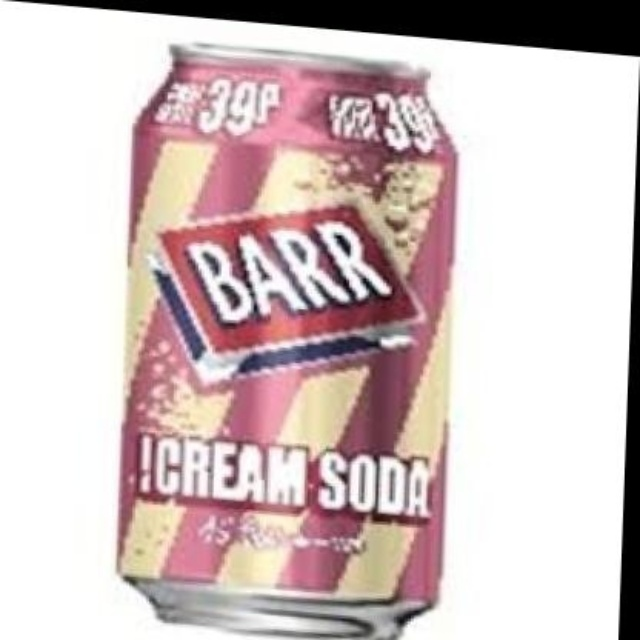trash: (120, 46, 455, 638)
